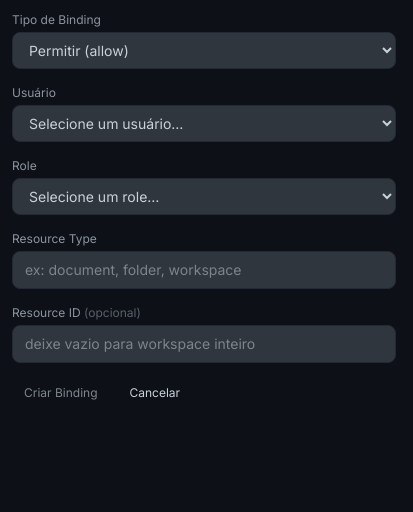
Scenario: CreateBindingForm › shows precedence warning when "Negar" is selected
Expected: the dropdown with test id "select-binding-user" is shown, [12,105,396,142]
Select "Negar (deny)" in the dropdown with test id "select-binding-type": (204, 50) [12,32,396,69]
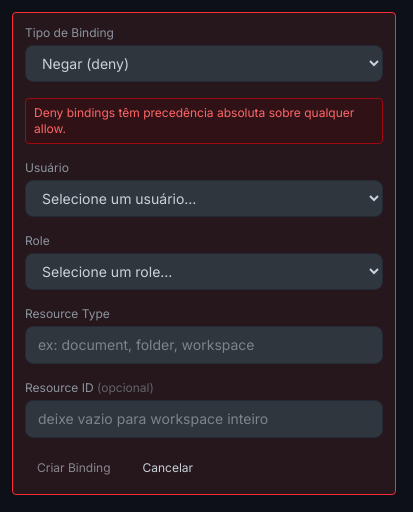
Result: the text "Deny bindings têm precedência absoluta sobre qualquer allow." is shown at [25,98,383,144]
